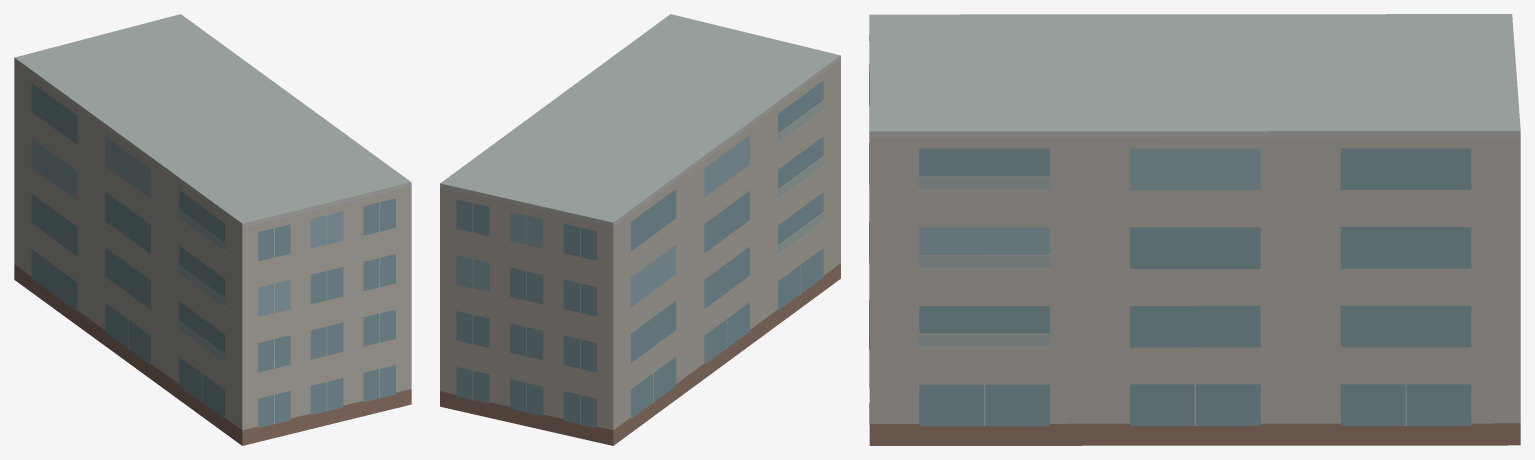
The model's file is survey-upis-32931399.glb.
The picture shows the model from 3 angles, left to right: view 1: azimuth 30°, elevation 25°; view 2: azimuth 150°, elevation 25°; view 3: azimuth 270°, elevation 25°; orthographic projection. The views are drawn at different scales.
Visible parts, largest first — view 1: survey-upis-32931399.tmp; view 2: survey-upis-32931399.tmp; view 3: survey-upis-32931399.tmp.
Part boxes in pixels (bbox=[...]): survey-upis-32931399.tmp: bbox=[14, 14, 411, 445]; survey-upis-32931399.tmp: bbox=[440, 14, 840, 445]; survey-upis-32931399.tmp: bbox=[869, 14, 1520, 445].
Bounding box in the file's own units: 10.37 × 12.9 × 24.24.
